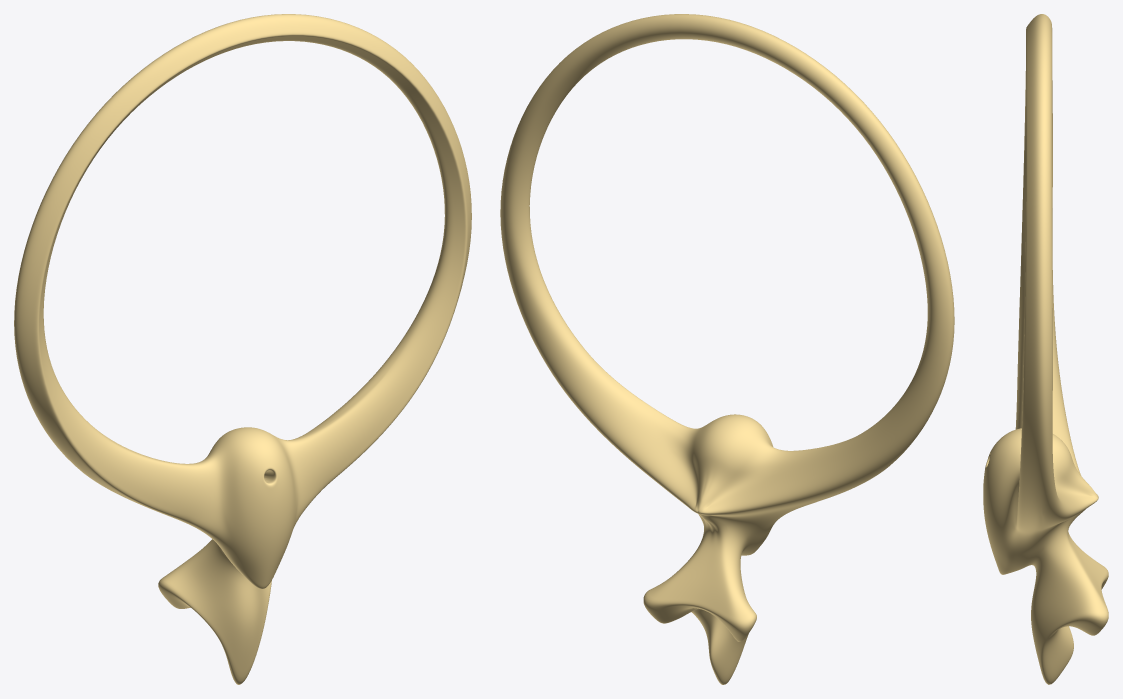
The model's file is satori-1.glb.
3 views of the same model, side by side, from view 1: azimuth 30°, elevation 25°; view 2: azimuth 150°, elevation 25°; view 3: azimuth 270°, elevation 25° (orthographic). The views are drawn at different scales.
Visible parts, largest first — view 1: Box819; view 2: Box819; view 3: Box819.
Boxes of the visible parts, left/top/right/bottom form: Box819: left=14, top=14, right=471, bottom=684; Box819: left=500, top=14, right=954, bottom=684; Box819: left=983, top=14, right=1108, bottom=684.
Size of the model in its own units: 0.0403 by 0.0564 by 0.0099.
